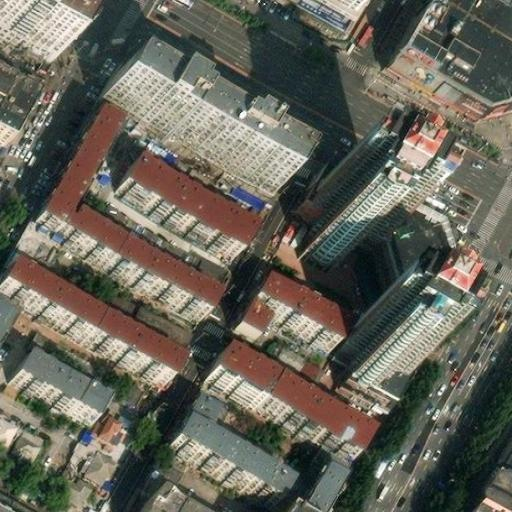building: (303, 148, 457, 397), (27, 111, 209, 316), (113, 50, 301, 179), (0, 263, 174, 382), (166, 401, 335, 512), (207, 352, 364, 463), (381, 0, 512, 117), (112, 159, 252, 260), (235, 262, 350, 334), (303, 168, 391, 255), (337, 301, 418, 384), (2, 354, 95, 423), (392, 107, 449, 165), (135, 477, 219, 512), (54, 467, 105, 511), (0, 409, 42, 460), (76, 443, 122, 489), (89, 406, 132, 444), (476, 473, 512, 512)
